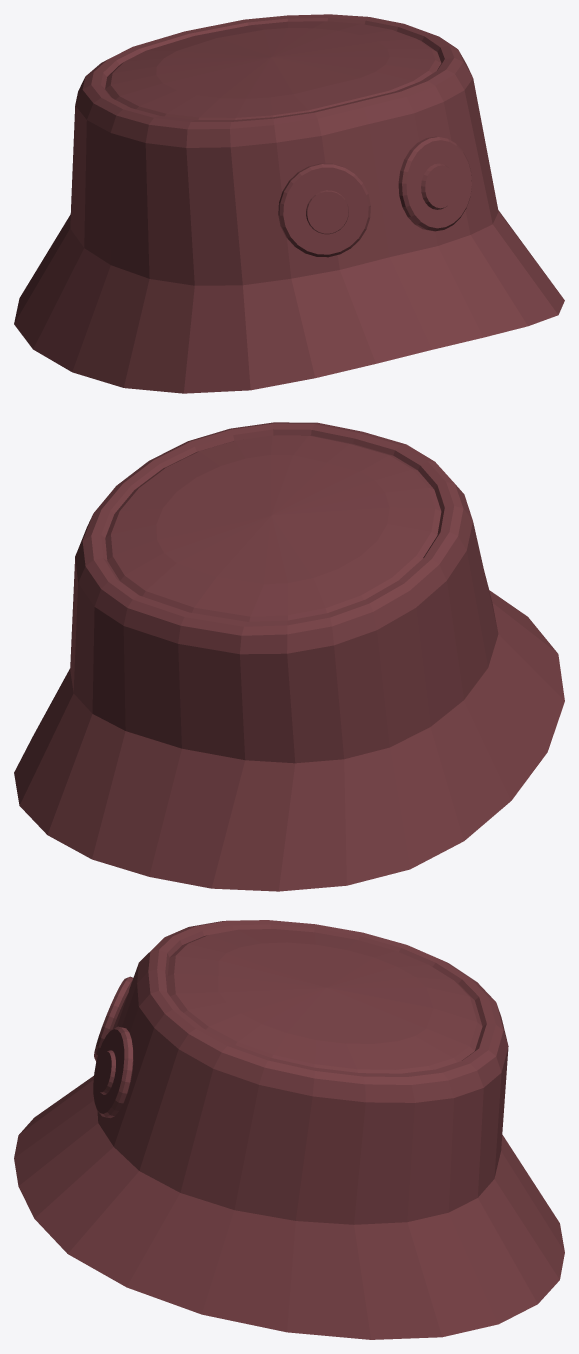
Rendered from Hat_BucketGoogly.fbx.
3 views of the same model, one above another, from view 1: azimuth 30°, elevation 25°; view 2: azimuth 150°, elevation 25°; view 3: azimuth 270°, elevation 25° (orthographic). The views are drawn at different scales.
Visible parts, largest first — view 1: Hat_BucketGoogly, R_EyeBase (×2), R_EyePupil (×2); view 2: Hat_BucketGoogly; view 3: Hat_BucketGoogly, R_EyeBase (×2), R_EyePupil.
Boxes of the visible parts, bbox=[...] form: Hat_BucketGoogly: bbox=[14, 14, 564, 393]; R_EyeBase (×2): bbox=[278, 136, 471, 257]; R_EyePupil (×2): bbox=[306, 163, 456, 234]; Hat_BucketGoogly: bbox=[14, 422, 564, 891]; Hat_BucketGoogly: bbox=[14, 920, 564, 1339]; R_EyeBase (×2): bbox=[93, 976, 133, 1118]; R_EyePupil: bbox=[96, 1050, 115, 1094].
Size of the model in its own units: 2.9 by 1.83 by 3.23.
